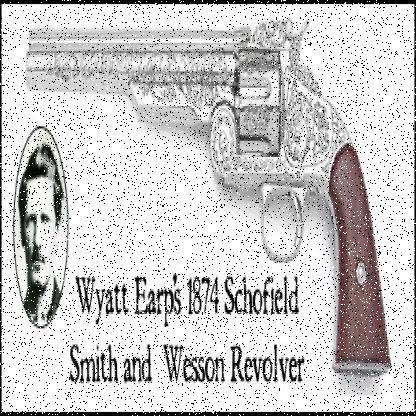pistol: (19, 12, 395, 381)
